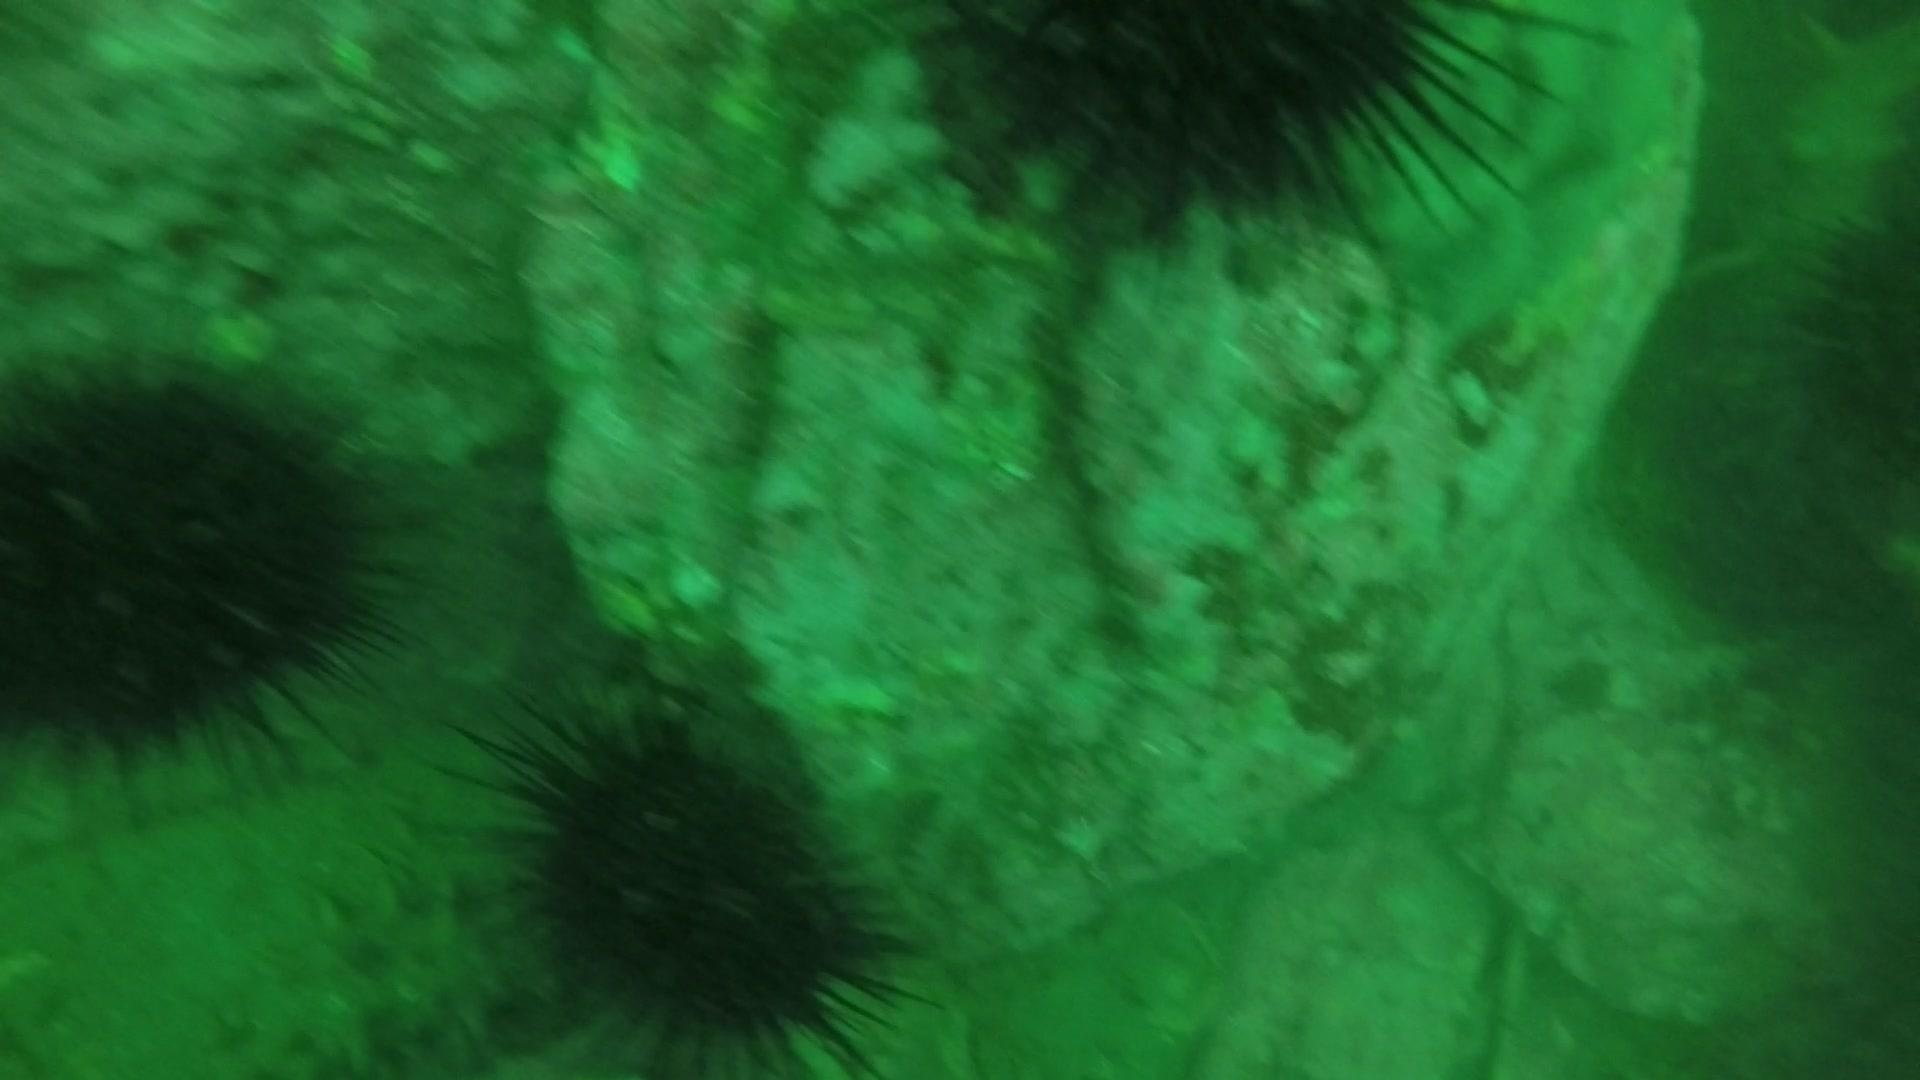echinus: (431, 661, 924, 1073), (0, 345, 411, 773), (922, 5, 1551, 255), (1778, 185, 1919, 472)
holothurian: (206, 874, 549, 1073)
